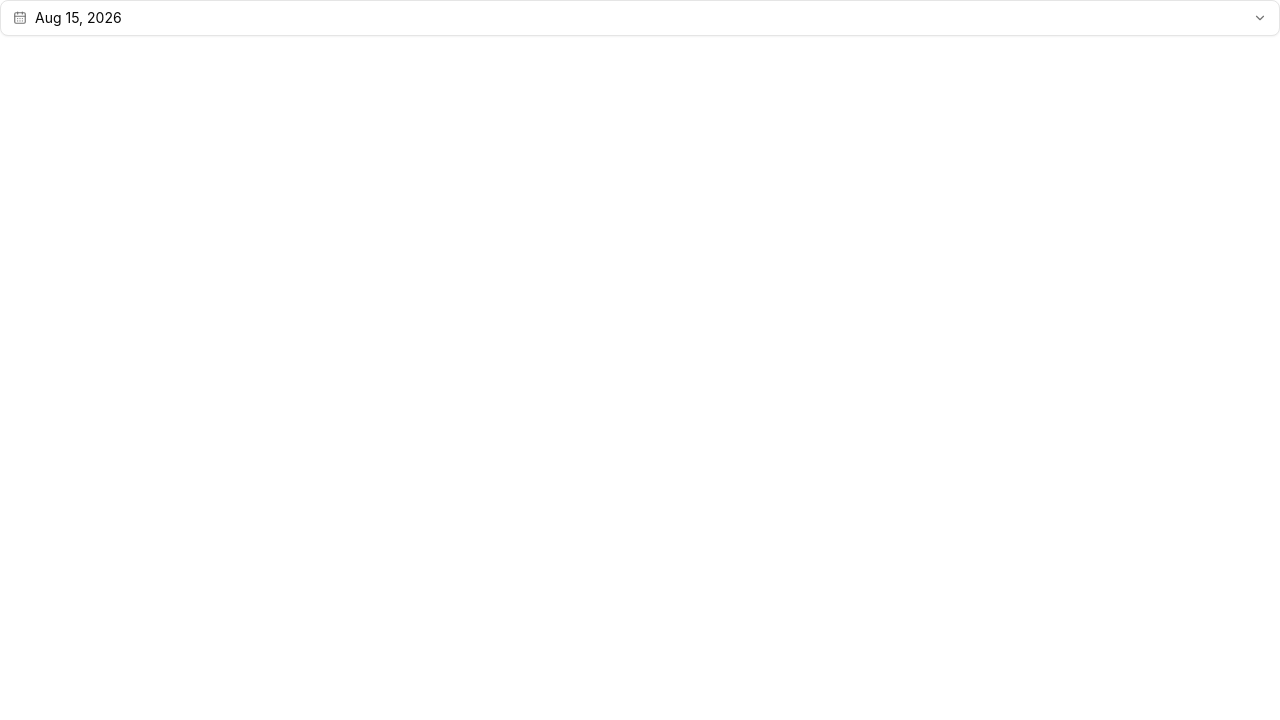
DatePicker › keeps clear disabled for required dates
Click the button "Aug 15, 2026".
click(78, 18)  # box [0,0,1279,36]
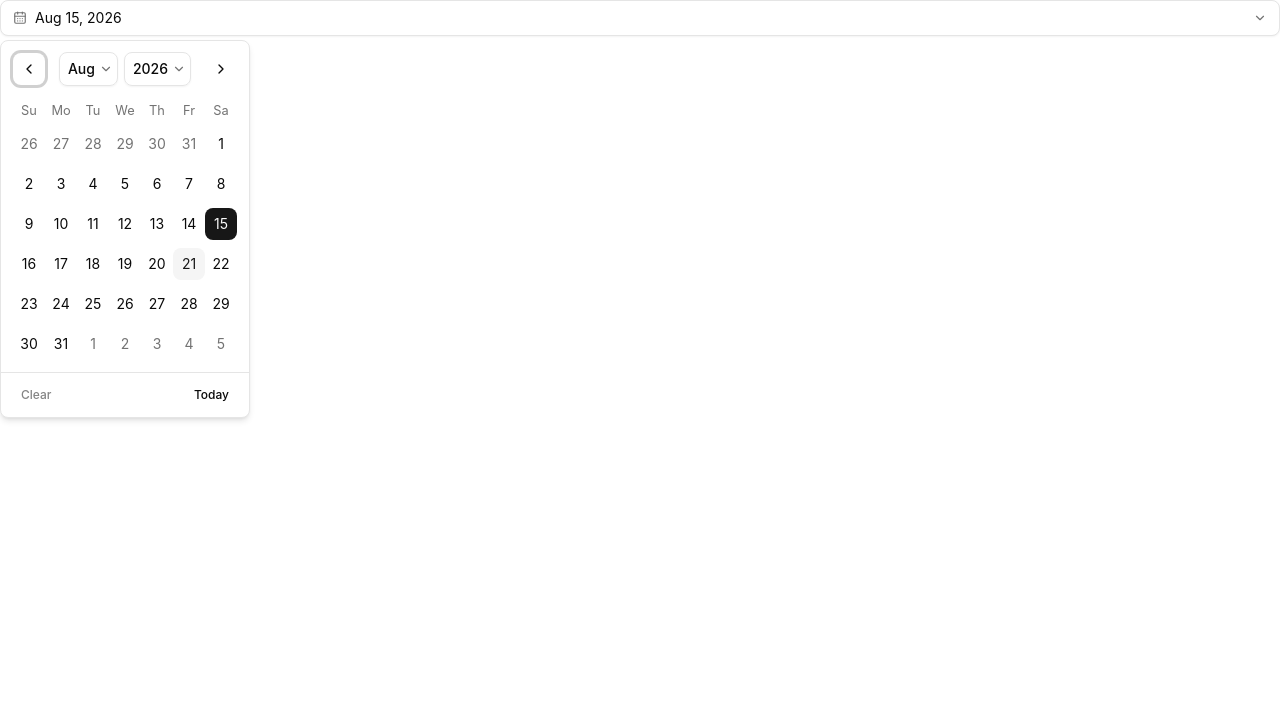
Expected: the button "Clear" is disabled, [9,381,64,409]
